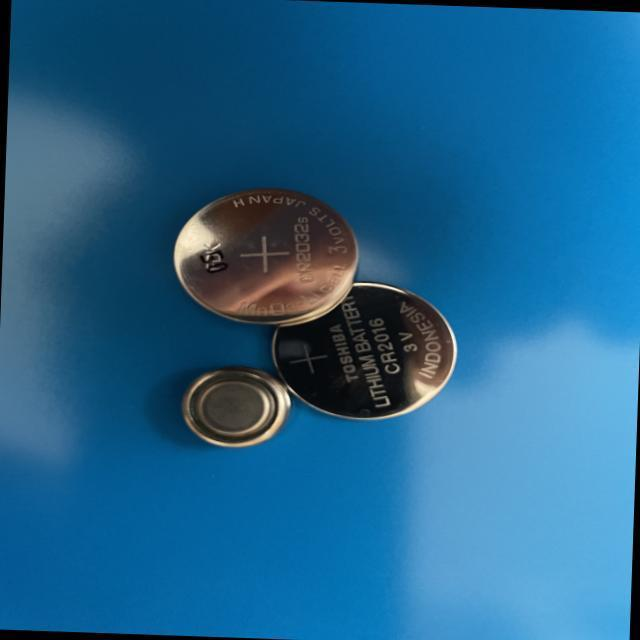COIN: (266, 276, 462, 422), (168, 183, 362, 328), (178, 362, 293, 449)
